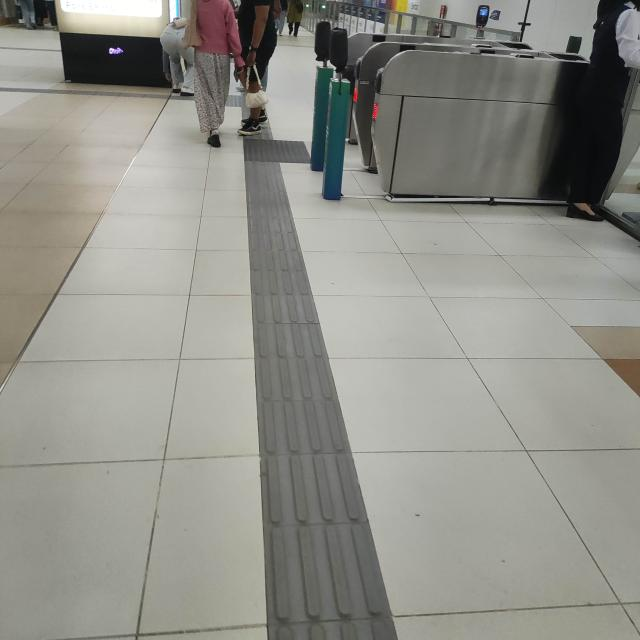lurus: (233, 197, 379, 640)
